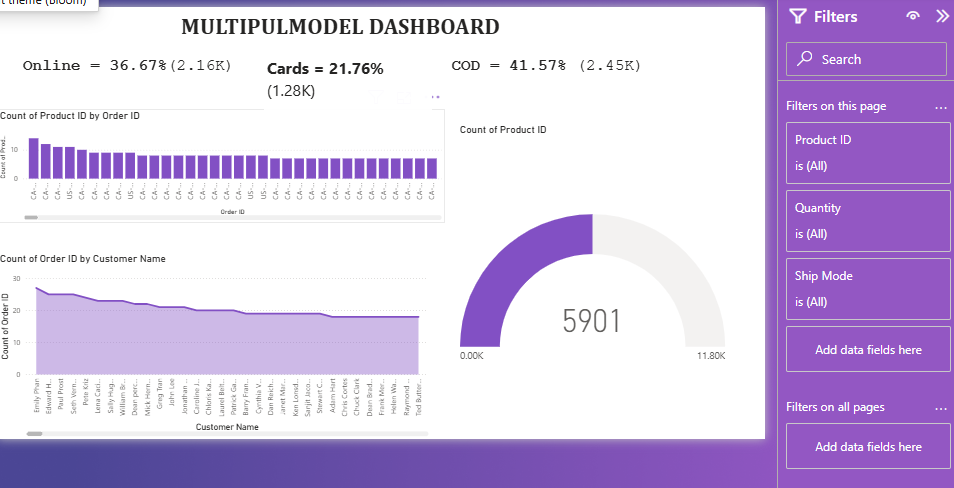

This screenshot's page, from the dashboard's own definition file:
{"tool":"powerbi","page":{"name":"Page 1","canvas":[1280,720],"ordinal":0},"visuals":[{"type":"textbox","box":[261.2,0,632.5,78.8],"z":0},{"type":"clusteredColumnChart","fields":{"Category":["SuperStore_Sales_Dataset.Order ID"],"Y":["CountNonNull(SuperStore_Sales_Dataset.Product ID)"]},"box":[0,170,746,190],"z":1},{"type":"gauge","fields":{"Y":["CountNonNull(SuperStore_Sales_Dataset.Product ID)"]},"box":[766,194,452,526],"z":3},{"type":"textbox","box":[746.7,78.3,341.7,80],"z":4},{"type":"textbox","box":[38.6,78.6,384.3,80],"z":5},{"type":"textbox","box":[1073.8,7.5,113.8,71.2],"z":6},{"type":"textbox","box":[445,78.3,280,115],"z":7},{"type":"stackedAreaChart","fields":{"Category":["SuperStore_Sales_Dataset.Customer Name"],"Y":["CountNonNull(SuperStore_Sales_Dataset.Order ID)"]},"box":[0,408,724,312],"z":8}]}

Visuals, with their boxes on the page's 1280x720 design canvas (x1, y1, x2, y2). These are canvas units, not pixel positions in the 954x488 screenshot, which may show the page scaled, cropped or inside an application window:
textbox: (261,0,894,79)
clusteredColumnChart - SuperStore_Sales_Dataset.Order ID x CountNonNull(SuperStore_Sales_Dataset.Product ID): (0,170,746,360)
gauge - CountNonNull(SuperStore_Sales_Dataset.Product ID): (766,194,1218,720)
textbox: (747,78,1088,158)
textbox: (39,79,423,159)
textbox: (1074,8,1188,79)
textbox: (445,78,725,193)
stackedAreaChart - SuperStore_Sales_Dataset.Customer Name x CountNonNull(SuperStore_Sales_Dataset.Order ID): (0,408,724,720)
